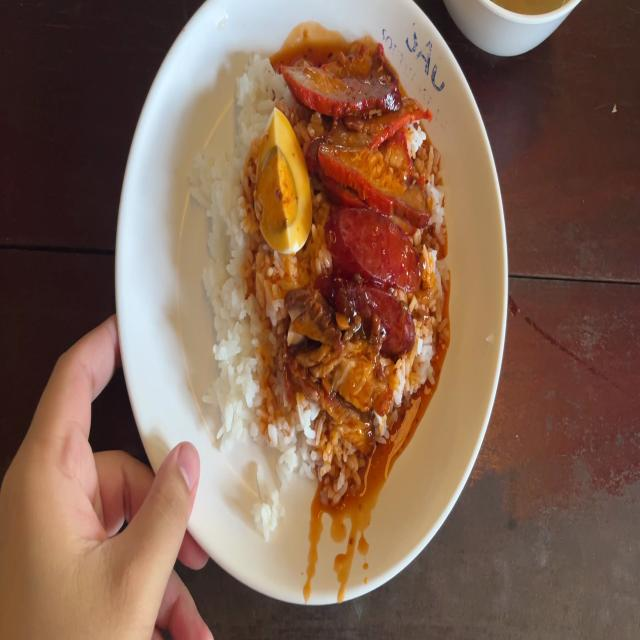01boiled_egg: (258, 132, 306, 252)
01chainese_sausage: (335, 212, 425, 334)
01crispy_pork: (317, 350, 401, 454), (291, 293, 330, 389)
01red_pork: (298, 56, 427, 180)
01red_pork_and_crispy_pork: (200, 49, 436, 463)
01rice: (205, 253, 283, 485), (205, 145, 247, 254), (236, 58, 279, 126)
